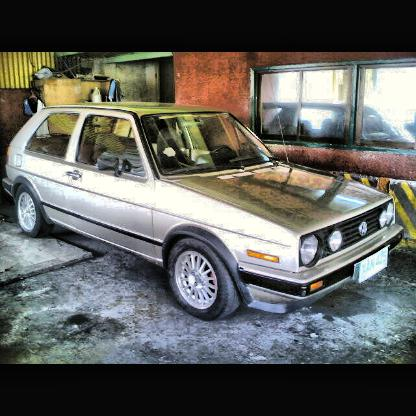Volkswagen Golf Hatchback 1991: (4, 104, 406, 323)
